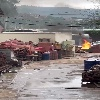fire: (80, 39, 91, 49)
